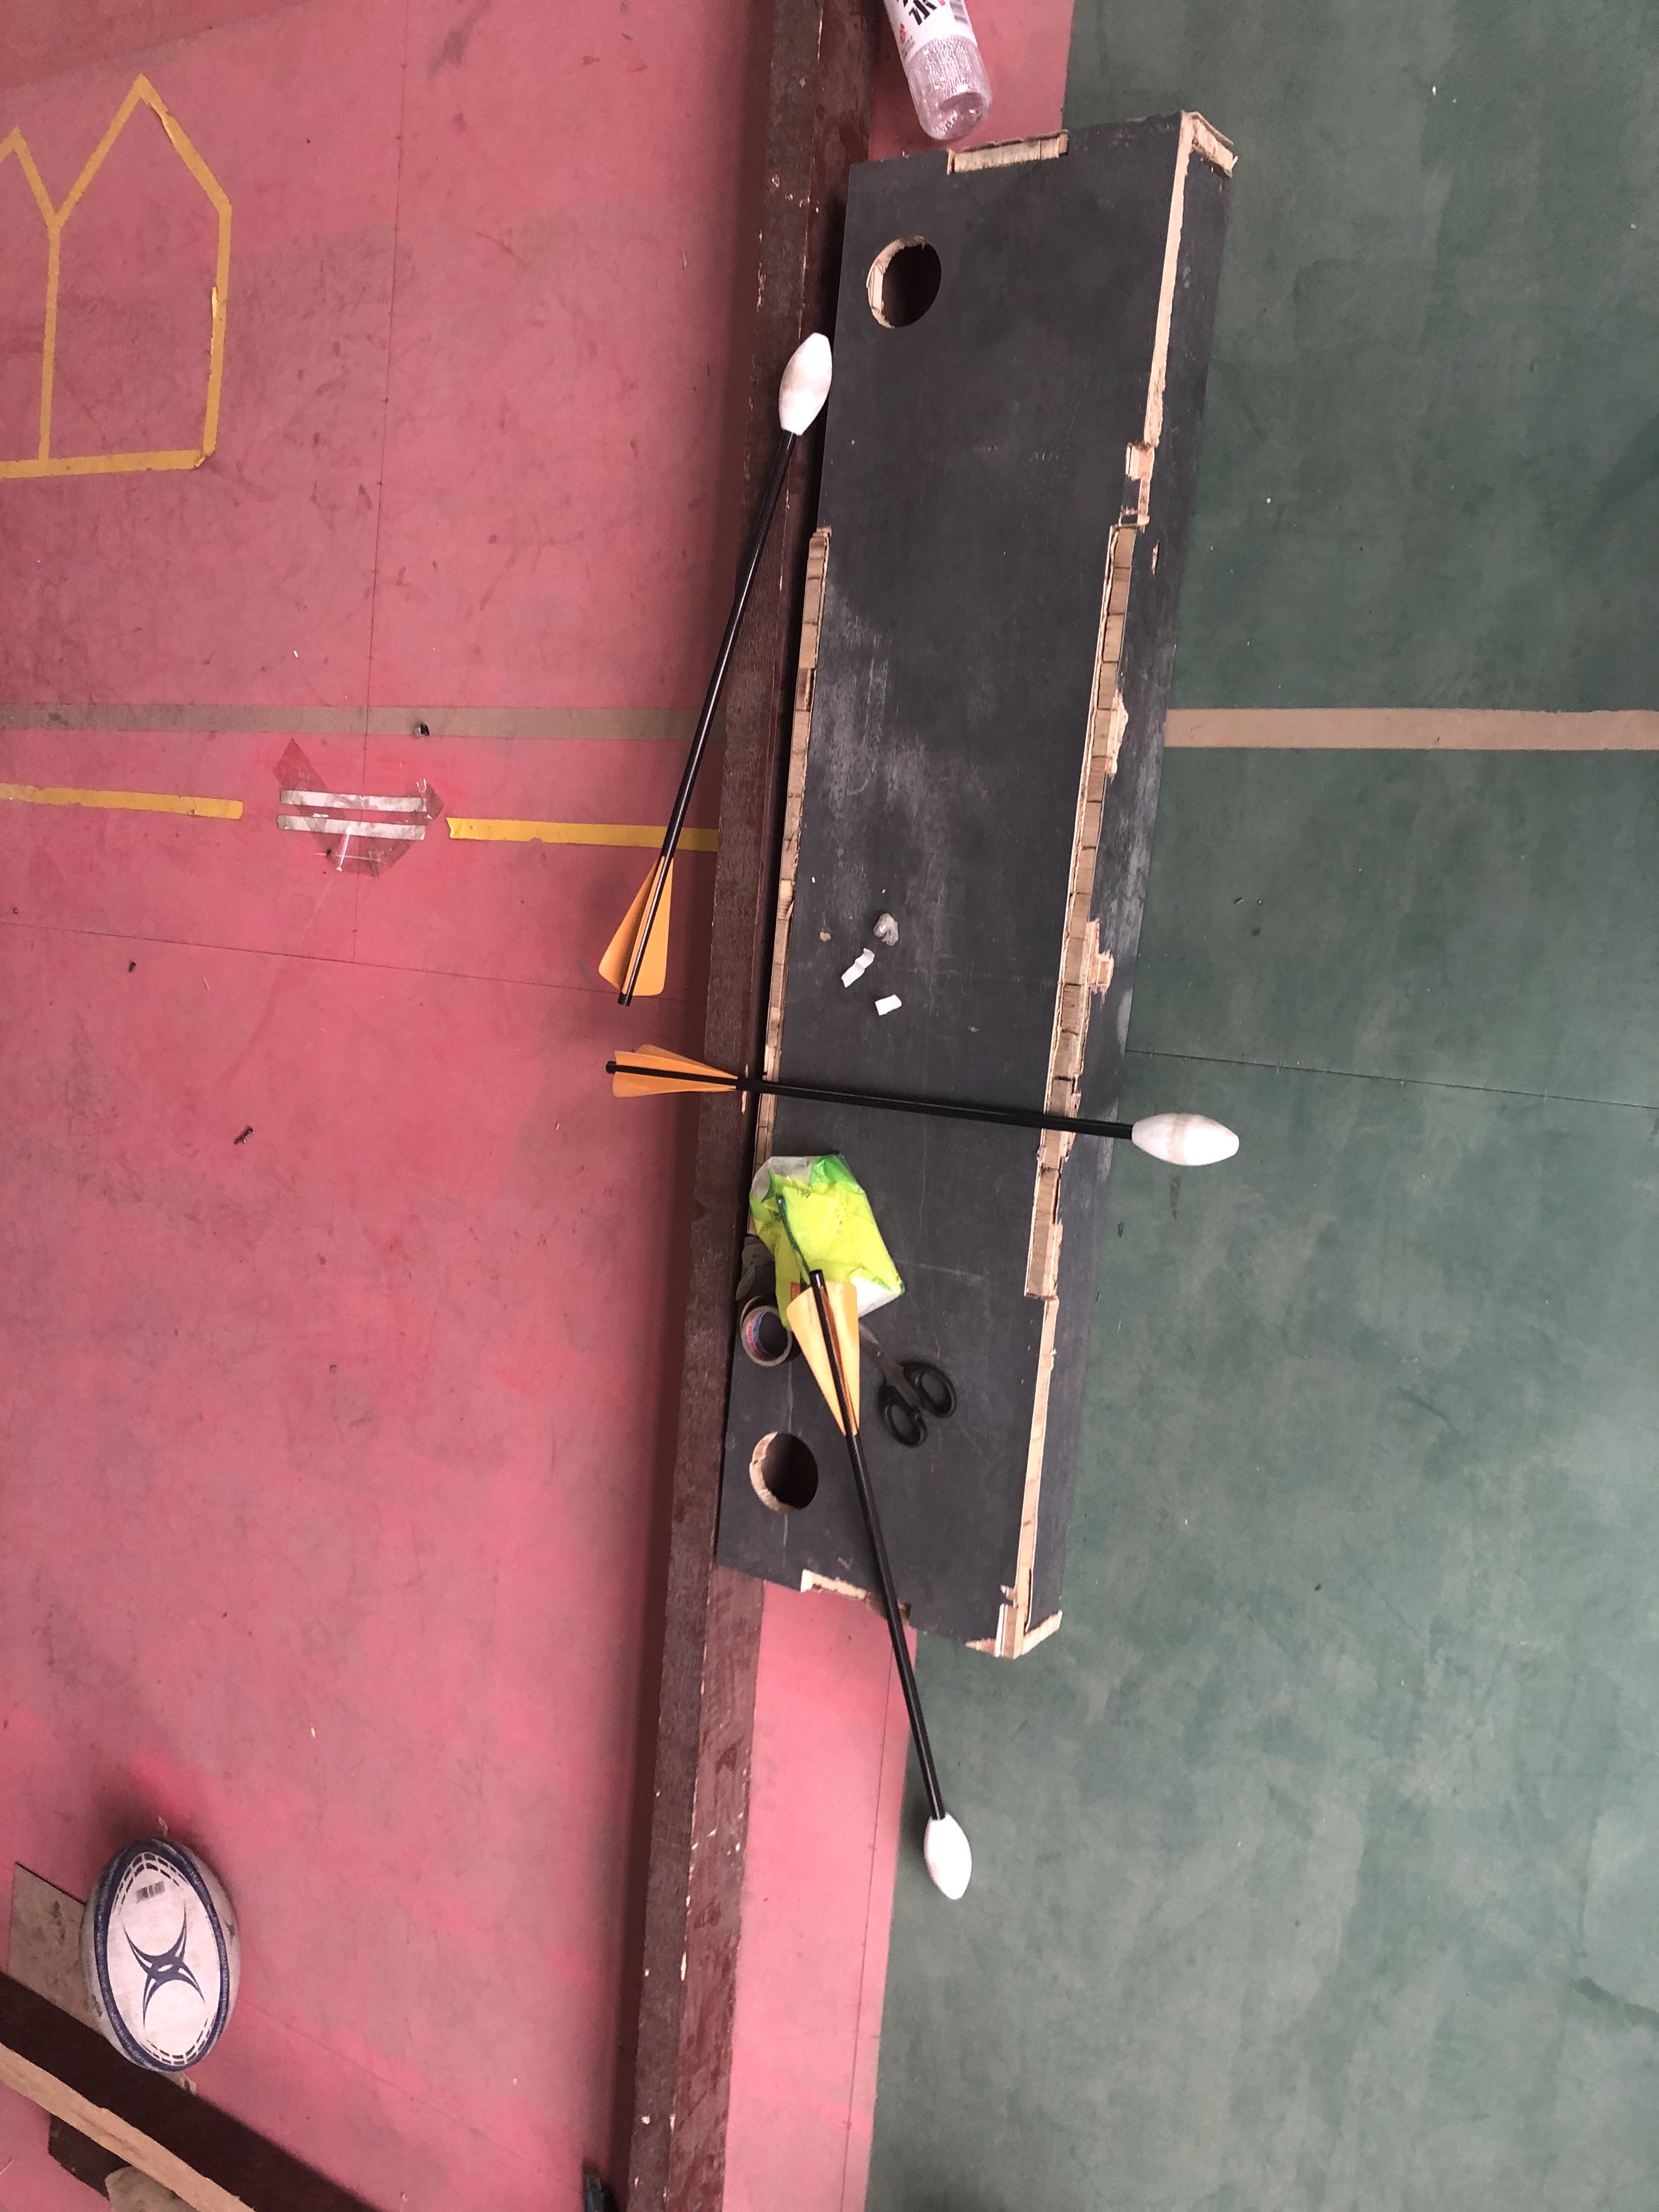arrow: (592, 334, 840, 1014), (767, 1261, 1019, 1914), (599, 1031, 1248, 1170)
arrowFront: (1124, 1106, 1243, 1170), (777, 327, 828, 437), (925, 1808, 976, 1907)
